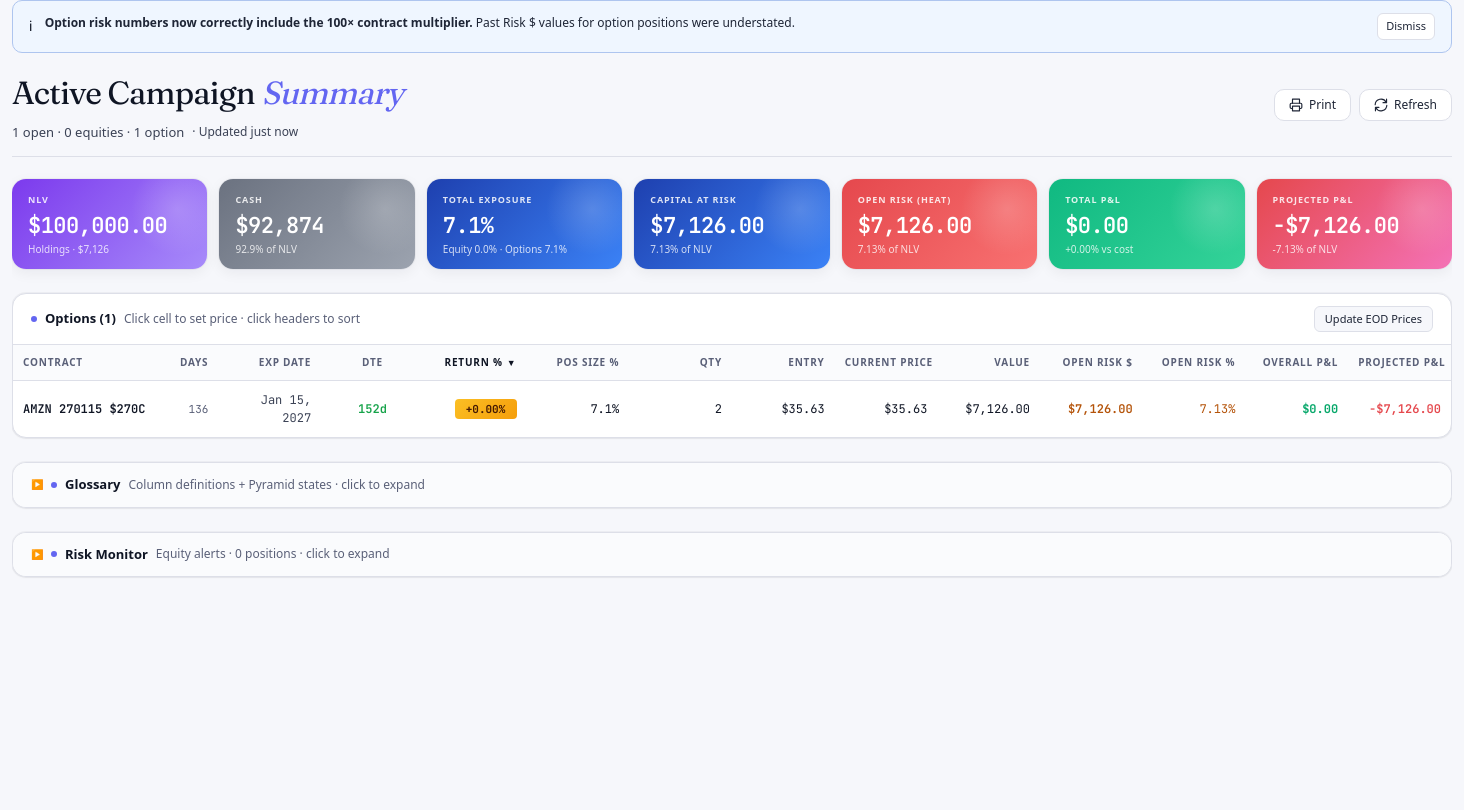
Test case: ActiveCampaign — Exercise option flow › right-click on OPTION row shows the Exercise option menu item
The width and height of the screenshot is (1464, 810).
// Locate the option row's contextmenu target via its ticker text.
Right-click the text "AMZN 270115 $270C" at (84, 409), box x1=23 y1=400 x2=145 y2=418
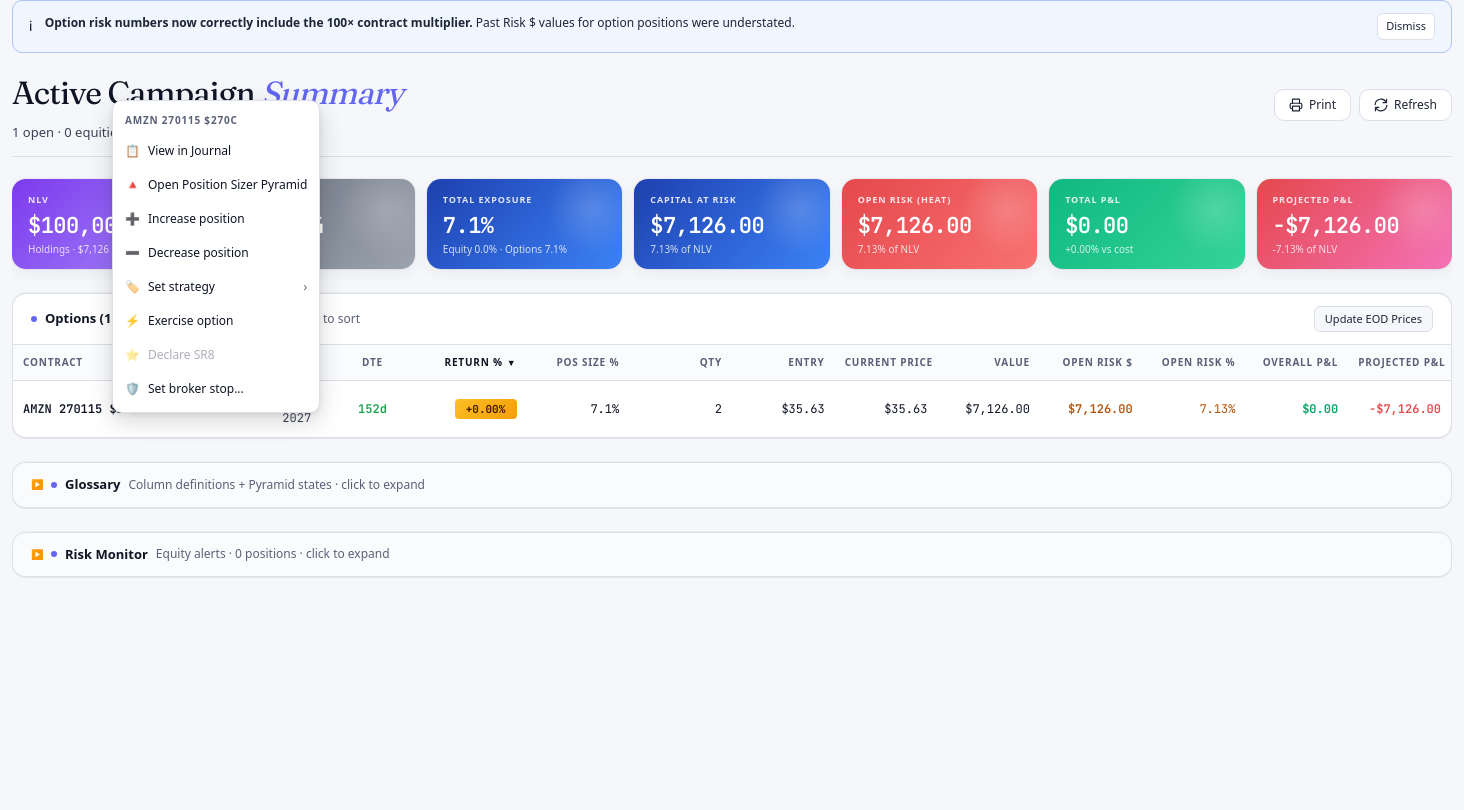
Check: the button "⚡ Exercise option" is shown, box x1=113 y1=304 x2=319 y2=338
